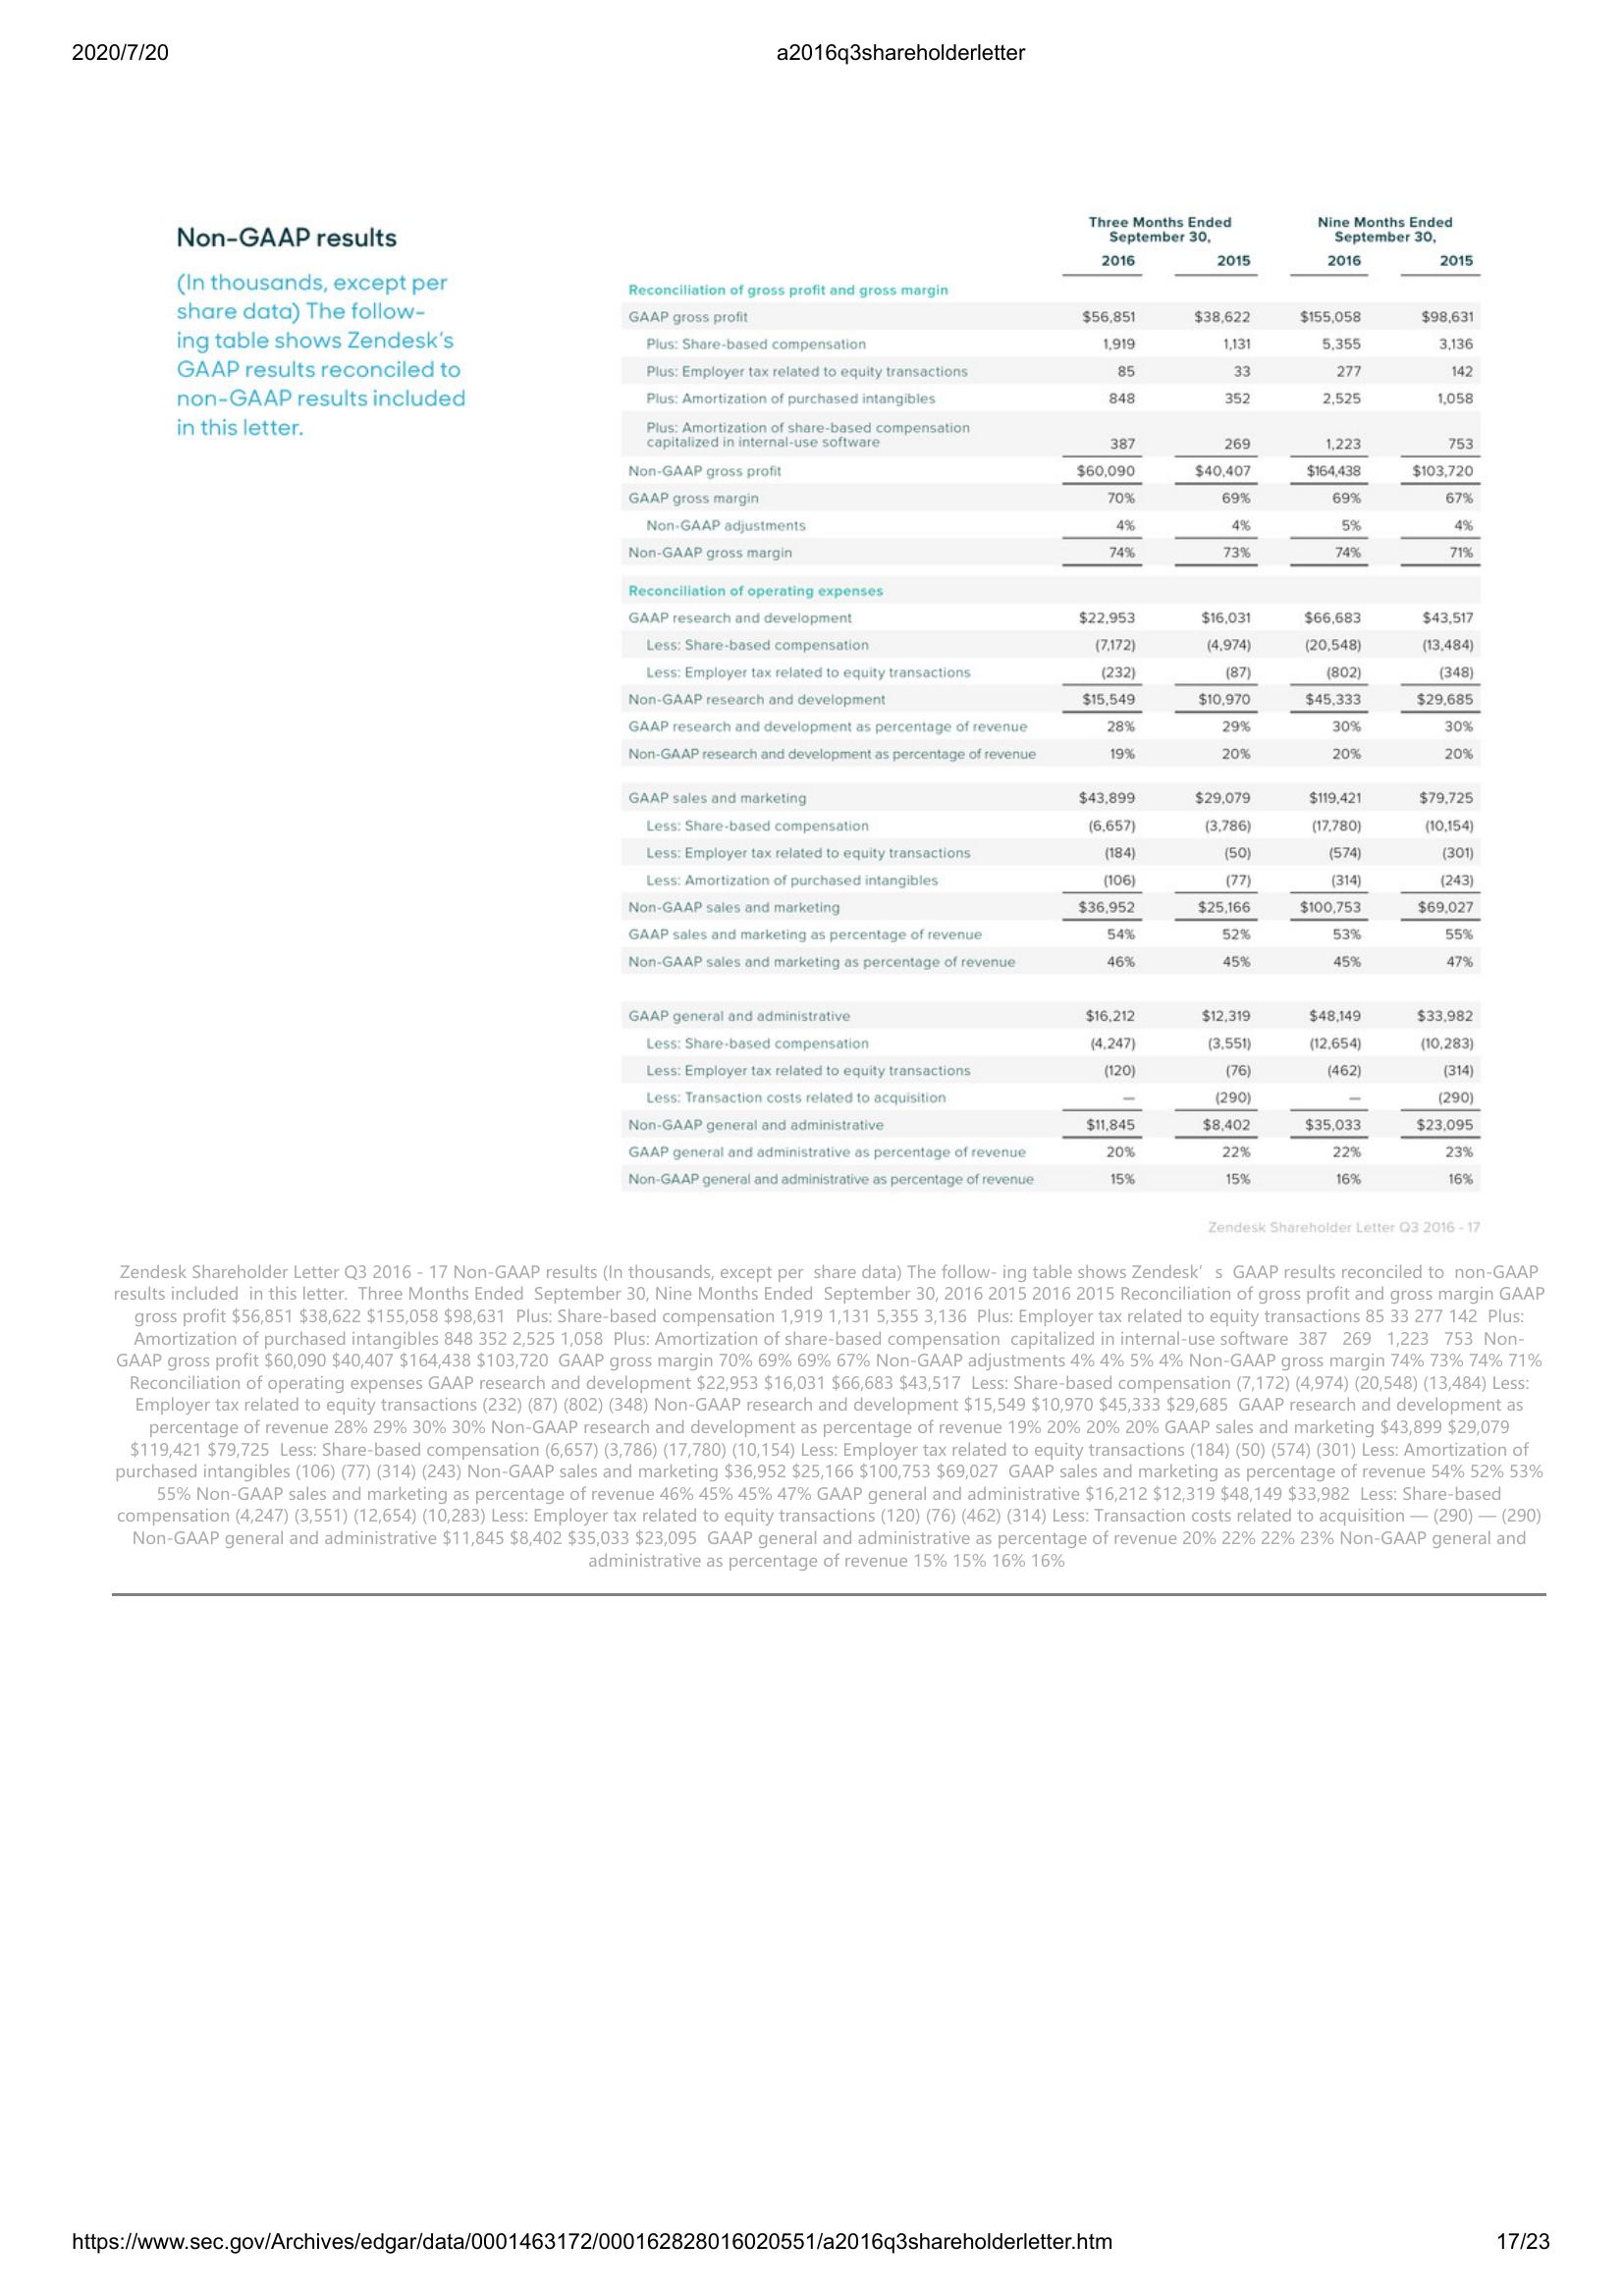table: (618, 209, 1491, 1188)
